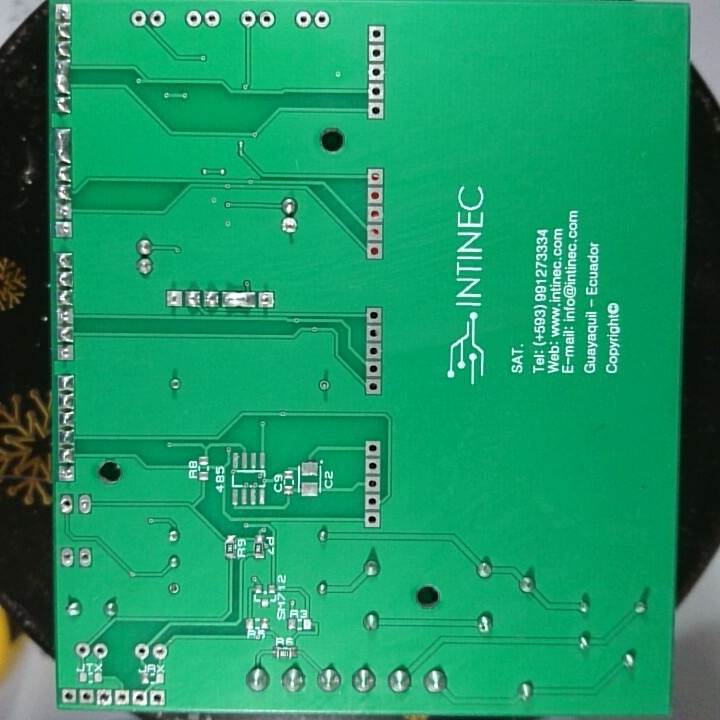F: (256, 288, 276, 312), (366, 21, 387, 43), (365, 222, 387, 243), (54, 199, 76, 220), (55, 342, 77, 363), (364, 472, 384, 495), (52, 1, 75, 21), (312, 7, 330, 32), (53, 222, 78, 240), (366, 98, 386, 120), (367, 184, 387, 206), (166, 287, 186, 309), (55, 305, 75, 327), (58, 492, 76, 516), (60, 544, 76, 571), (366, 165, 386, 186), (95, 686, 115, 707), (294, 8, 313, 30), (113, 686, 130, 710), (367, 42, 387, 62), (366, 80, 387, 99), (364, 340, 385, 359), (366, 240, 385, 260), (365, 377, 384, 397), (128, 8, 147, 28), (147, 9, 167, 28), (58, 463, 78, 482), (281, 215, 299, 236), (130, 688, 148, 709), (78, 544, 93, 569), (365, 63, 387, 80), (364, 305, 383, 324), (366, 323, 385, 342), (363, 492, 382, 511), (367, 204, 385, 224), (366, 358, 384, 378), (74, 495, 92, 515), (59, 686, 77, 706), (204, 8, 221, 29), (239, 8, 256, 29), (148, 686, 164, 708), (363, 511, 382, 529), (150, 641, 167, 661), (78, 688, 95, 708), (258, 7, 275, 27), (74, 640, 92, 658), (362, 440, 381, 457), (316, 376, 333, 395), (92, 642, 109, 661), (185, 8, 202, 27), (364, 458, 383, 474), (134, 641, 150, 660), (167, 580, 182, 600)
P: (51, 60, 75, 97), (221, 289, 257, 312), (52, 126, 74, 161)
